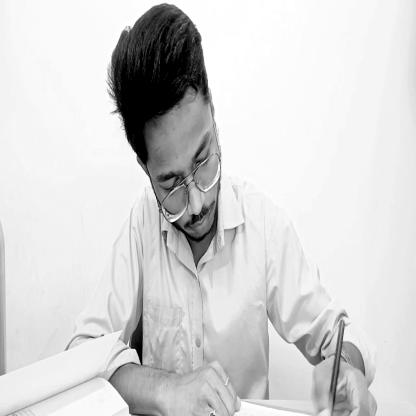Distracted: (114, 10, 225, 252)
